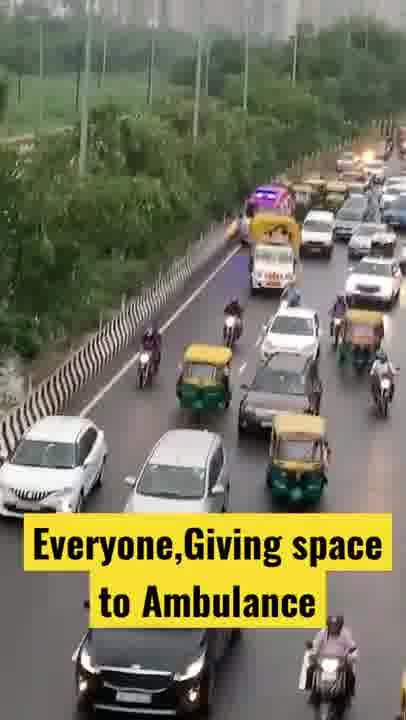AMBULANCE: (240, 184, 292, 214)
